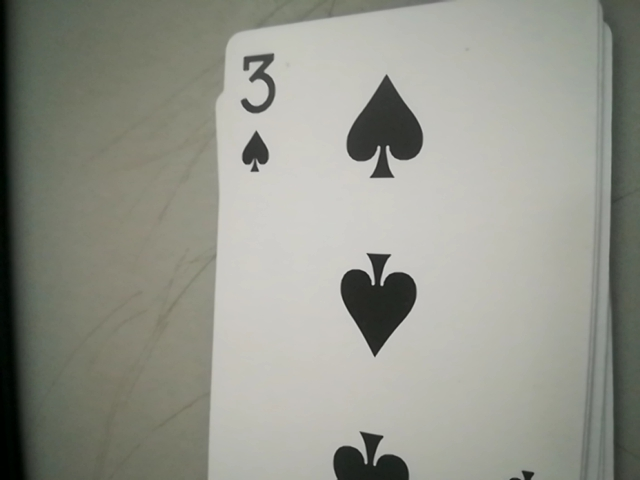ht 3: (221, 49, 303, 183)
